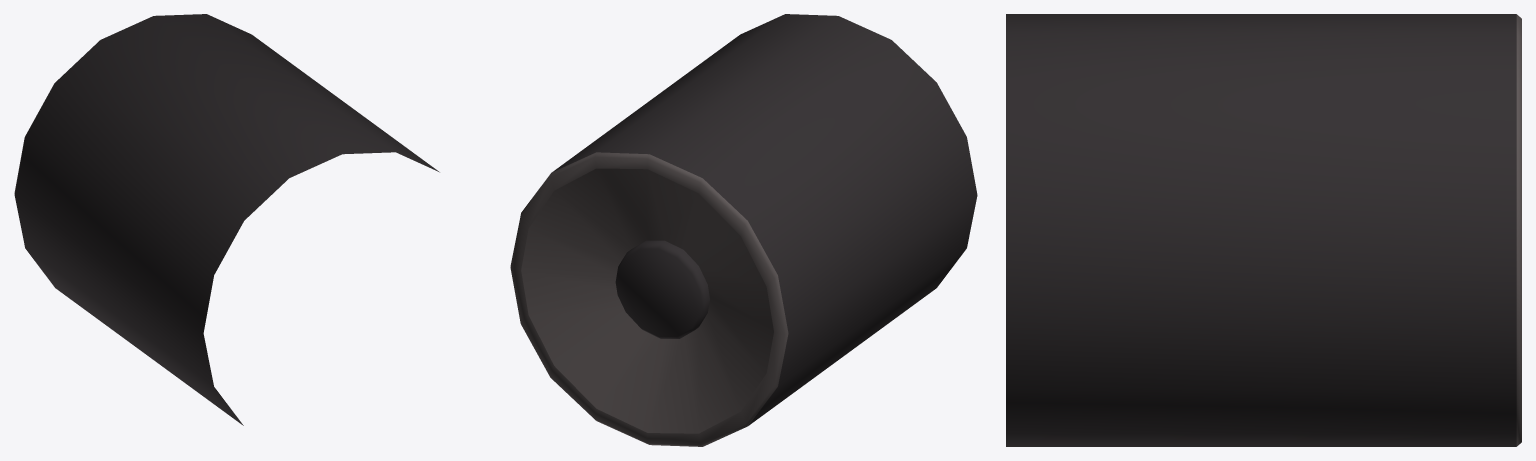
Rendered from Tweeter.glb.
The picture shows the model from 3 angles, left to right: view 1: azimuth 30°, elevation 25°; view 2: azimuth 150°, elevation 25°; view 3: azimuth 270°, elevation 25°; orthographic projection. The views are drawn at different scales.
Visible parts, largest first — view 1: tweeter; view 2: tweeter; view 3: tweeter.
Part boxes in pixels (left/top/right/bottom): tweeter: left=14, top=14, right=439, bottom=425; tweeter: left=510, top=14, right=977, bottom=446; tweeter: left=1006, top=14, right=1521, bottom=446.
Bounding box in the file's own units: 1.33 × 1.33 × 1.58.
1 material, 1 textured.
